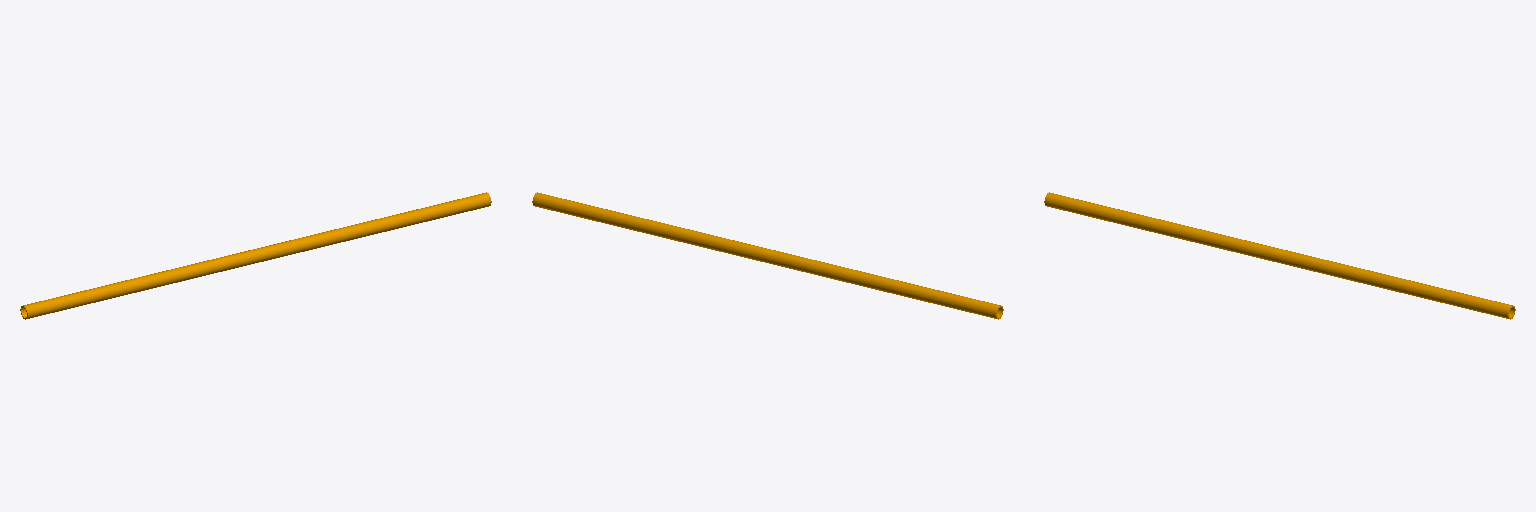
URDF robot description (peg):
<?xml version="1.0" ?>
<!-- =================================================================================== -->
<!-- |    This document was autogenerated by xacro from peg.urdf.xacro                 | -->
<!-- |    EDITING THIS FILE BY HAND IS NOT RECOMMENDED                                 | -->
<!-- =================================================================================== -->
<robot name="peg" xmlns:xacro="http://www.ros.org/wiki/xacro">
  <link name="base_link">
    <inertial>
      <mass value="30"/>
      <!-- 6 metri di lunghezza??  1/12 m l^2  ixx and izz matrix inertia wikipedia
       -->
      <inertia ixx="90" ixy="0" ixz="0" iyy="0" iyz="0" izz="90"/>
    </inertial>
    <visual>
      <origin rpy="0 0 0" xyz="-0.0 0 0.0"/>
      <geometry>
        <mesh filename="objects/pipecreo.obj"/>
      </geometry>
    </visual>
  </link>
</robot>

--- Facts derived from the render (not from the file) ---
3 views of the same robot in one strip: view 1: azimuth 30°, elevation 25°; view 2: azimuth 150°, elevation 25°; view 3: azimuth 330°, elevation 25° (orthographic).
Robot: peg — 1 links, 0 joints (none); root link base_link; default pose: all joints at 0.
Visible links, largest first — view 1: base_link; view 2: base_link; view 3: base_link.
Boxes of the visible links, x1,y1,x2,y2 form: base_link: (20,192,491,319); base_link: (532,192,1003,319); base_link: (1044,192,1515,319).
Bounding box of the posed robot: 5.99 × 0.1598 × 0.1595 m (x, y, z).
1 mesh visuals loaded from 1 distinct referenced files (1 OBJ).
